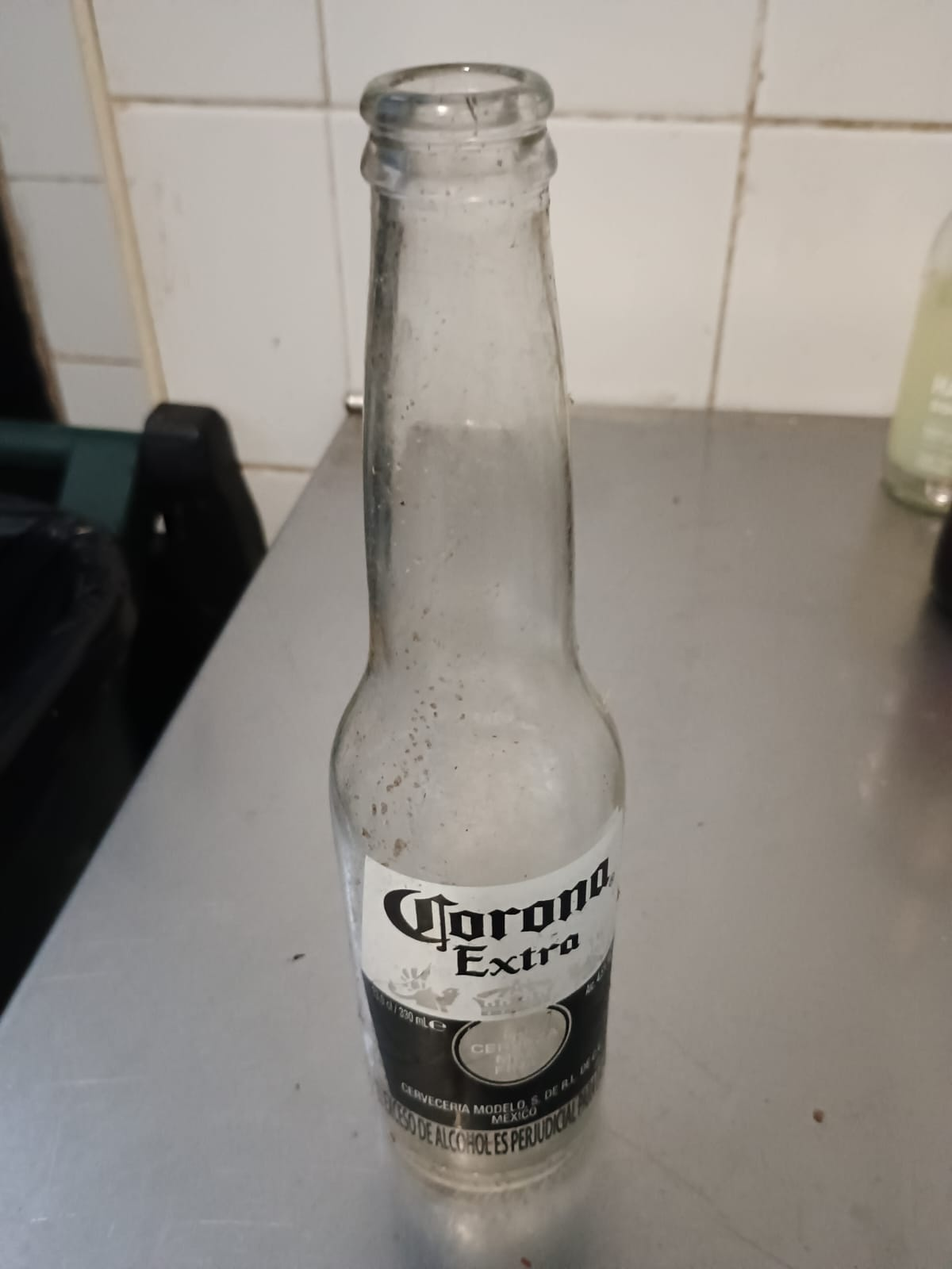Vidrio: (331, 62, 627, 1191)
